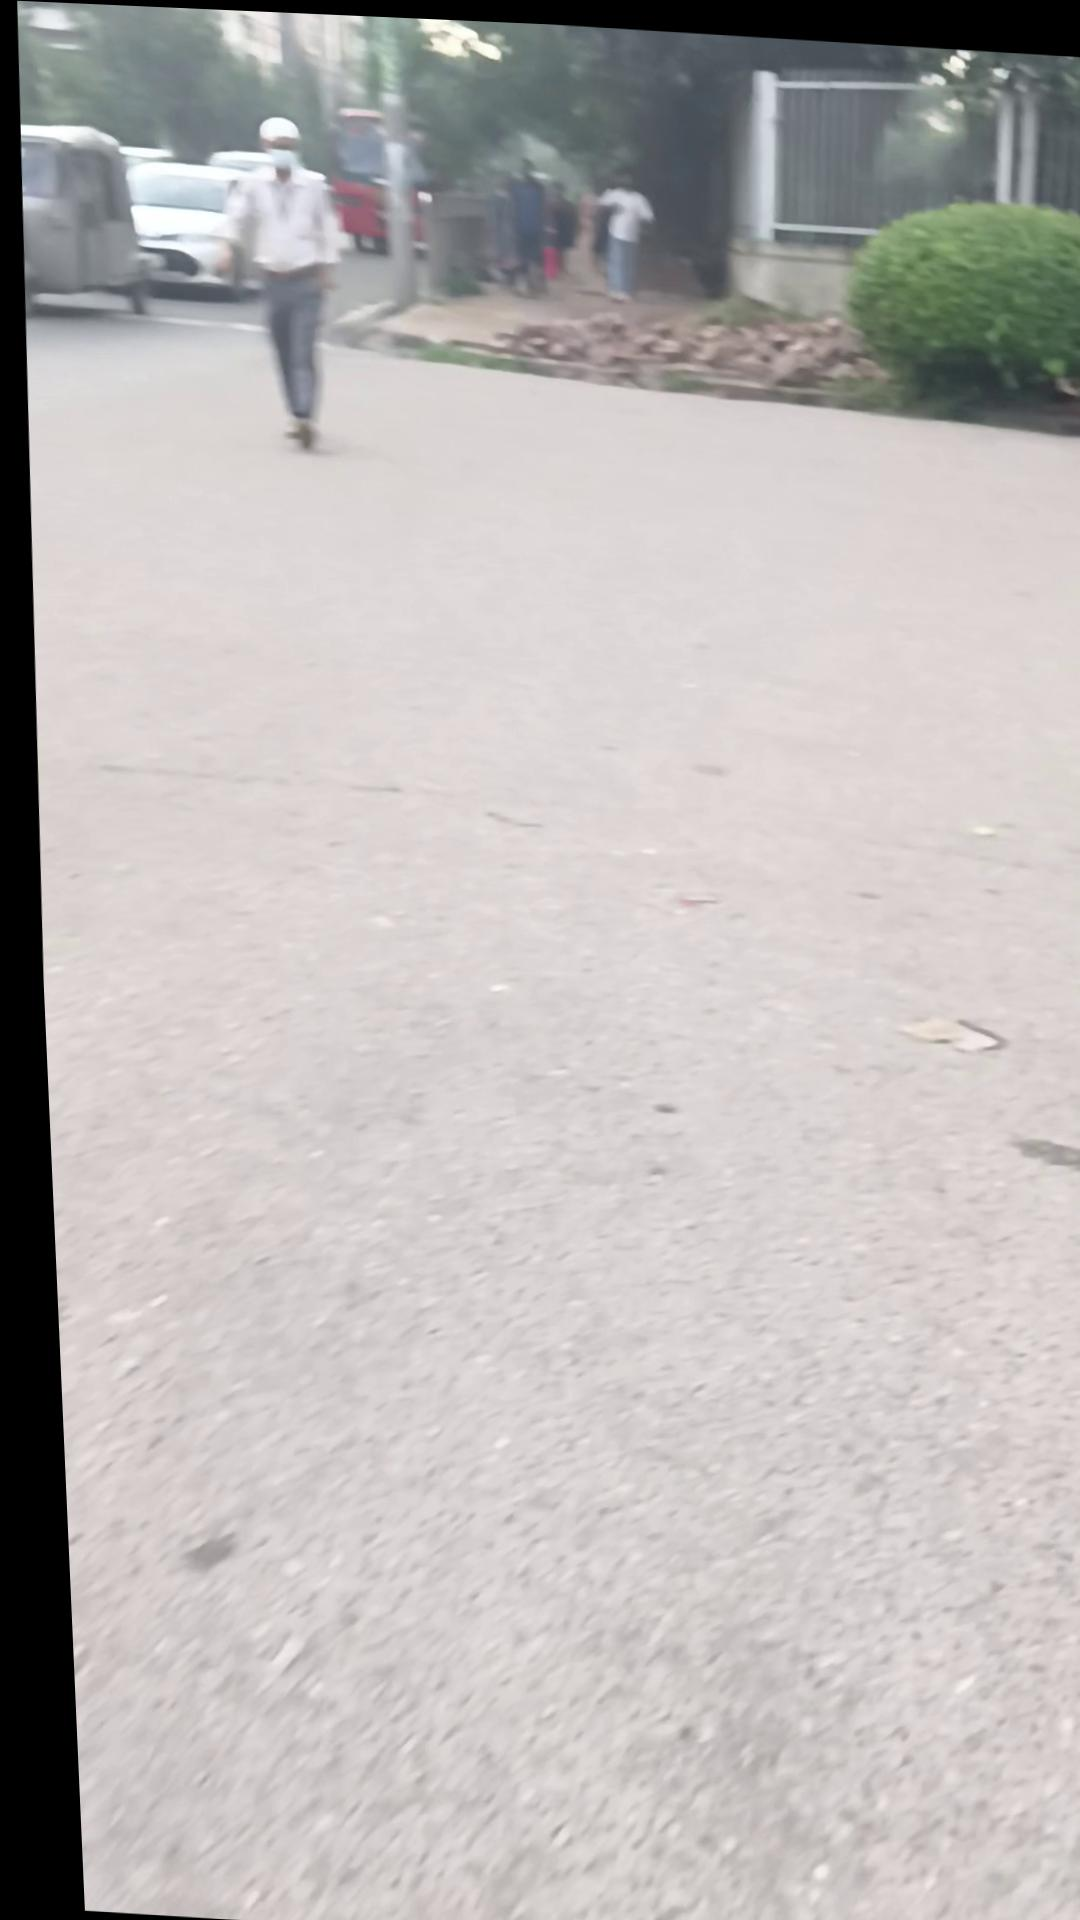Crosswalk: (345, 269, 1080, 425)
Muddy road: (200, 109, 353, 448), (585, 162, 657, 298), (500, 150, 549, 293)
Obstacle: (364, 15, 421, 307)
